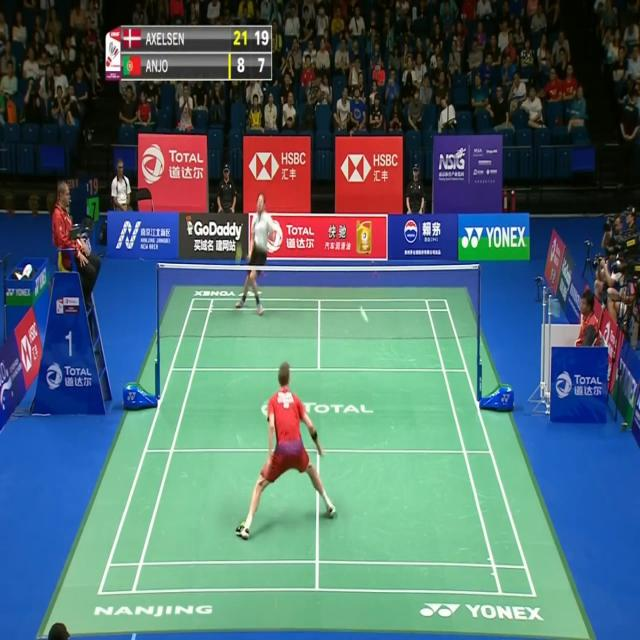Player1: (230, 357, 340, 543)
Player2: (230, 186, 280, 316)
